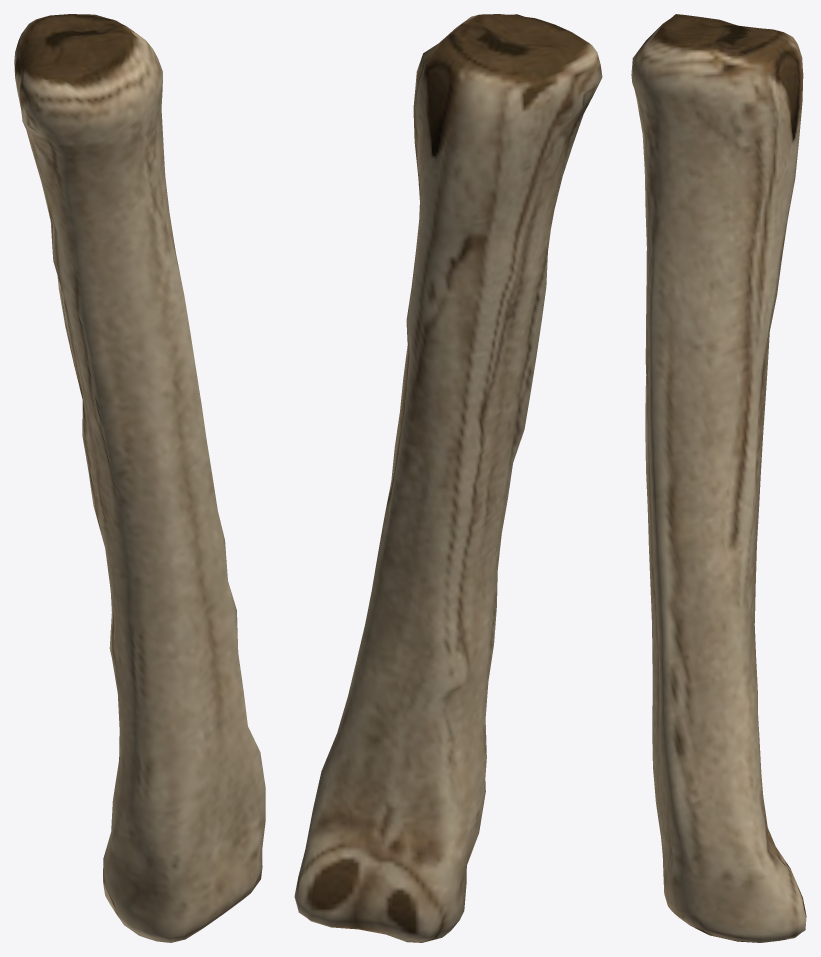
Rendered from Cannon.glb.
The picture shows the model from 3 angles, left to right: view 1: azimuth 30°, elevation 25°; view 2: azimuth 150°, elevation 25°; view 3: azimuth 270°, elevation 25°; orthographic projection. The views are drawn at different scales.
Parts seen in each view (by area): view 1: L_Bck_Cannon; view 2: L_Bck_Cannon; view 3: L_Bck_Cannon.
Boxes of the visible parts, x1,y1,x2,y2 form: L_Bck_Cannon: (14, 14, 265, 942); L_Bck_Cannon: (294, 14, 602, 942); L_Bck_Cannon: (631, 14, 806, 942).
Size of the model in its own units: 0.0818 by 0.285 by 0.0529.
Materials: 1 (1 with a texture image).
